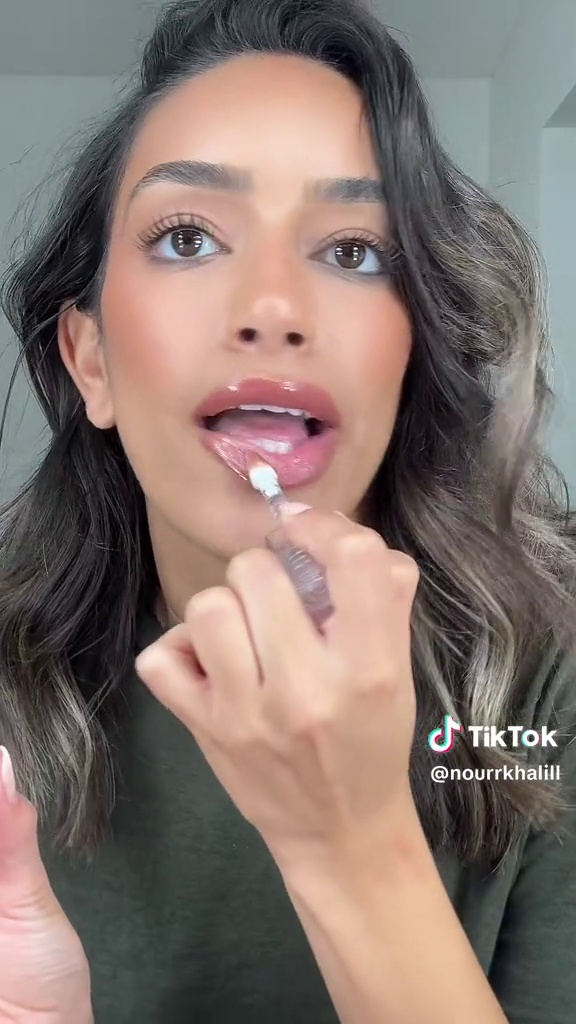train' :'yolo_data/train/images',: (235, 439, 341, 638)
